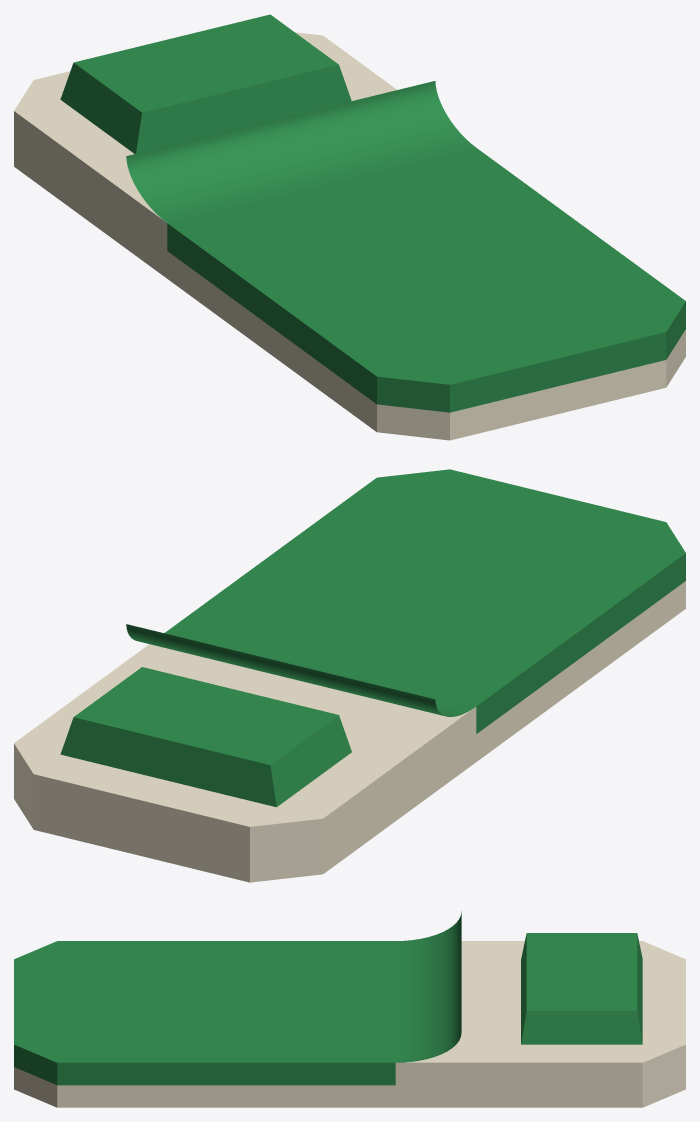
The model's file is sleeping-mat.glb.
The picture shows the model from 3 angles, top to bottom: view 1: azimuth 30°, elevation 25°; view 2: azimuth 150°, elevation 25°; view 3: azimuth 270°, elevation 25°; orthographic projection. The views are drawn at different scales.
Parts seen in each view (by area): view 1: bed_floor; view 2: bed_floor; view 3: bed_floor.
Part boxes in pixels (left/top/right/bottom): bed_floor: left=14, top=14, right=685, bottom=440; bed_floor: left=14, top=469, right=685, bottom=882; bed_floor: left=14, top=911, right=685, bottom=1107.
Bounding box in the file's own units: 1.28 × 0.3682 × 2.99.
